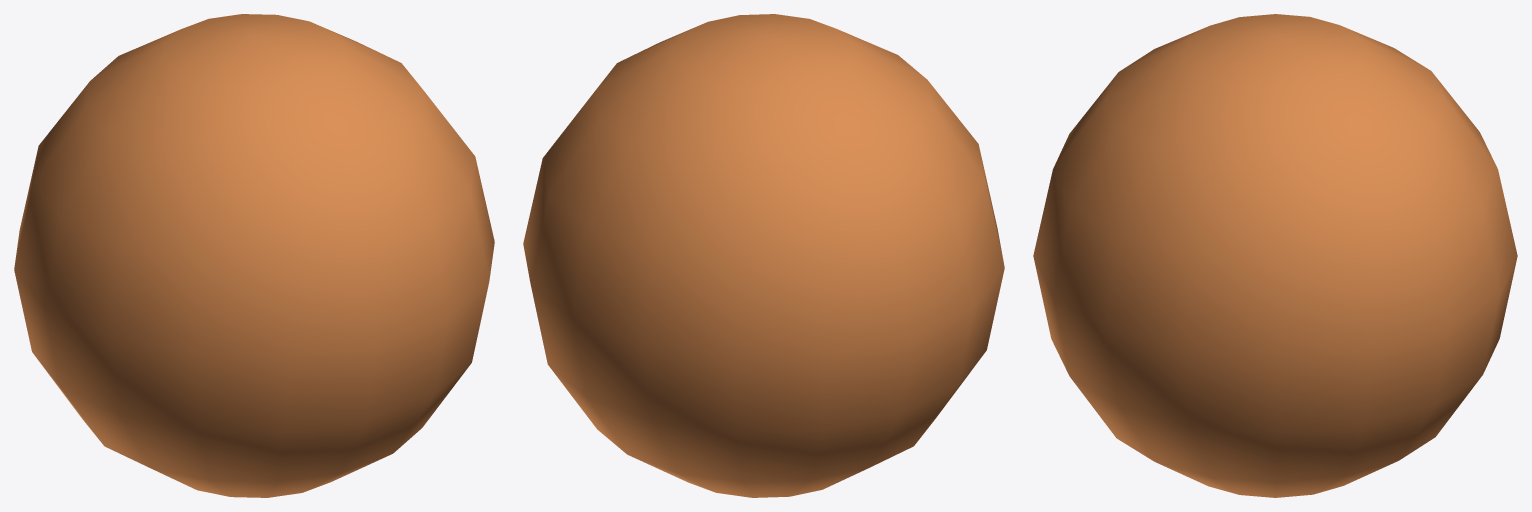
Rendered from UmbrellaMomentsNODE.gltf.
3 views of the same model, side by side, from view 1: azimuth 30°, elevation 25°; view 2: azimuth 150°, elevation 25°; view 3: azimuth 270°, elevation 25° (orthographic).
Parts seen in each view (by area): view 1: UmbrellaMomentsNODE; view 2: UmbrellaMomentsNODE; view 3: UmbrellaMomentsNODE.
Part boxes in pixels (x1,y1,x2,y2): UmbrellaMomentsNODE: [14, 14, 494, 497]; UmbrellaMomentsNODE: [523, 14, 1004, 497]; UmbrellaMomentsNODE: [1033, 14, 1517, 497].
Bounding box in the file's own units: 0.5144 × 0.5144 × 0.5144.
